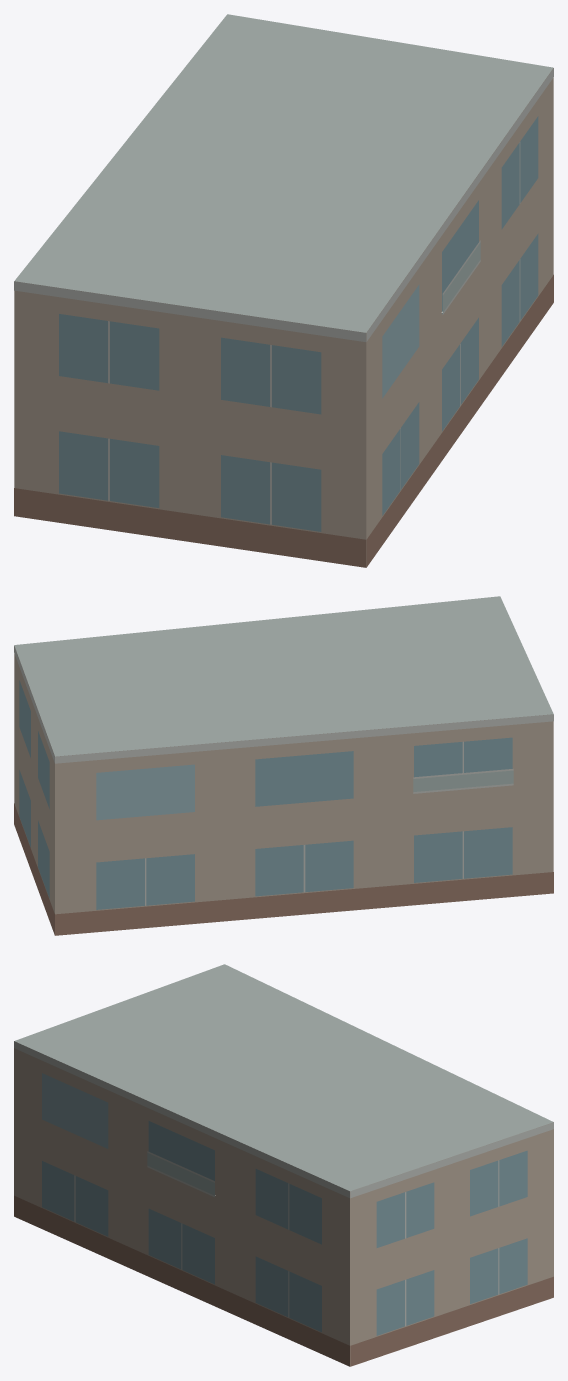
The model's file is survey-upis-32643650.glb.
The picture shows the model from 3 angles, top to bottom: view 1: azimuth 30°, elevation 25°; view 2: azimuth 150°, elevation 25°; view 3: azimuth 270°, elevation 25°; orthographic projection. The views are drawn at different scales.
Parts seen in each view (by area): view 1: survey-upis-32643650.tmp; view 2: survey-upis-32643650.tmp; view 3: survey-upis-32643650.tmp.
Boxes of the visible parts, left/top/right/bottom form: survey-upis-32643650.tmp: left=14, top=14, right=553, bottom=567; survey-upis-32643650.tmp: left=14, top=596, right=553, bottom=935; survey-upis-32643650.tmp: left=14, top=964, right=553, bottom=1366.
Bounding box in the file's own units: 16.95 × 6.1 × 17.02.
